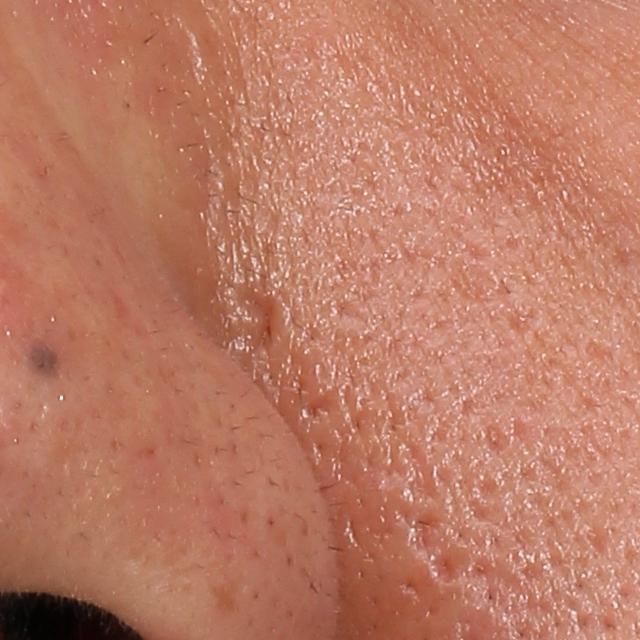atrophic_scar: (405, 510, 468, 582), (228, 275, 282, 348), (292, 385, 354, 432), (452, 256, 505, 307), (580, 332, 625, 363), (485, 420, 519, 456)
